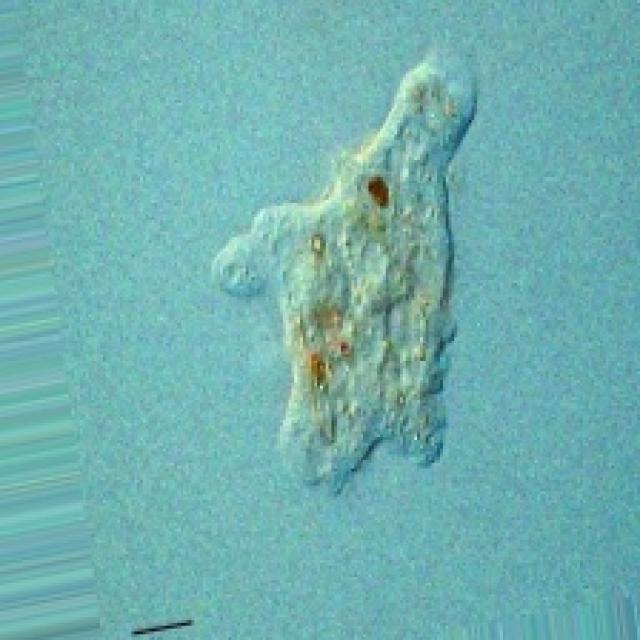Amoeba: (206, 49, 480, 494)
